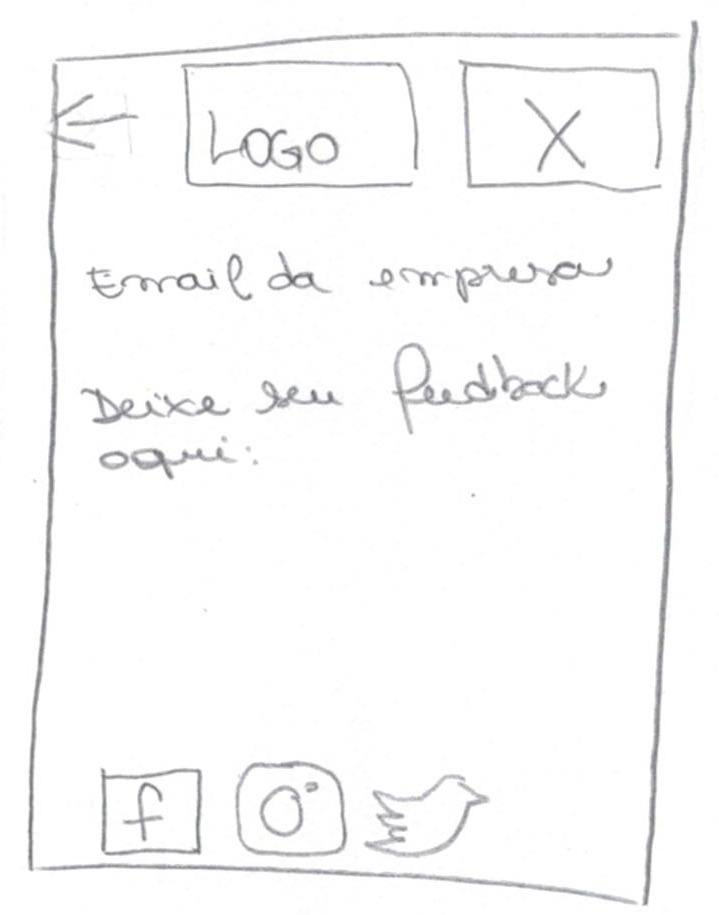Button: (365, 775, 491, 857), (239, 764, 345, 854), (100, 768, 203, 856), (51, 95, 142, 151)
Image: (459, 61, 663, 194)
Label: (87, 341, 607, 474), (87, 250, 615, 298)
Screen: (24, 21, 698, 902)
TextBox: (181, 58, 421, 188)
